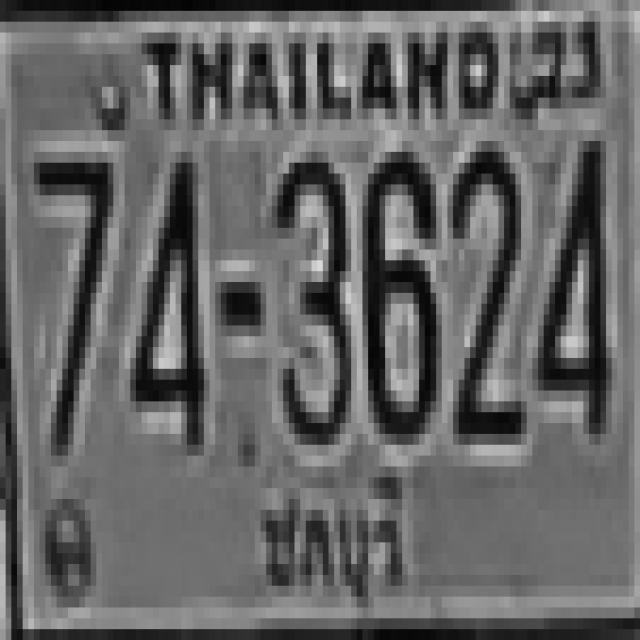2: (450, 141, 518, 434)
3: (272, 152, 345, 434)
4: (127, 152, 201, 445), (532, 136, 606, 428)
6: (360, 141, 433, 434)
7: (31, 147, 111, 450)
Chonburi: (253, 468, 412, 608)
